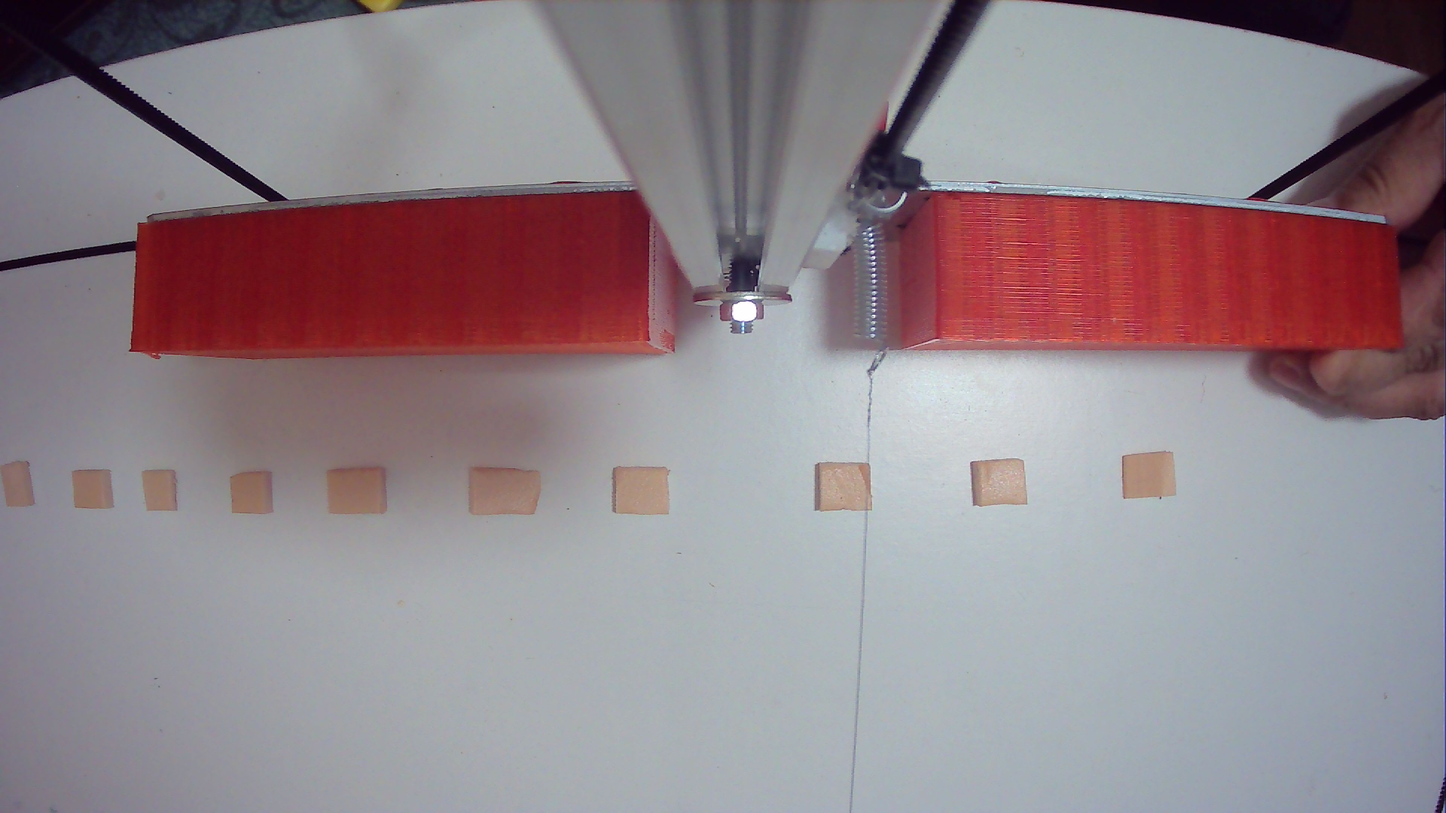polistirolo: (461, 451, 555, 522), (317, 457, 401, 528), (807, 446, 881, 526), (961, 446, 1043, 514), (608, 457, 684, 526), (1116, 440, 1184, 516), (219, 461, 281, 524), (68, 461, 115, 522), (137, 461, 184, 520)
